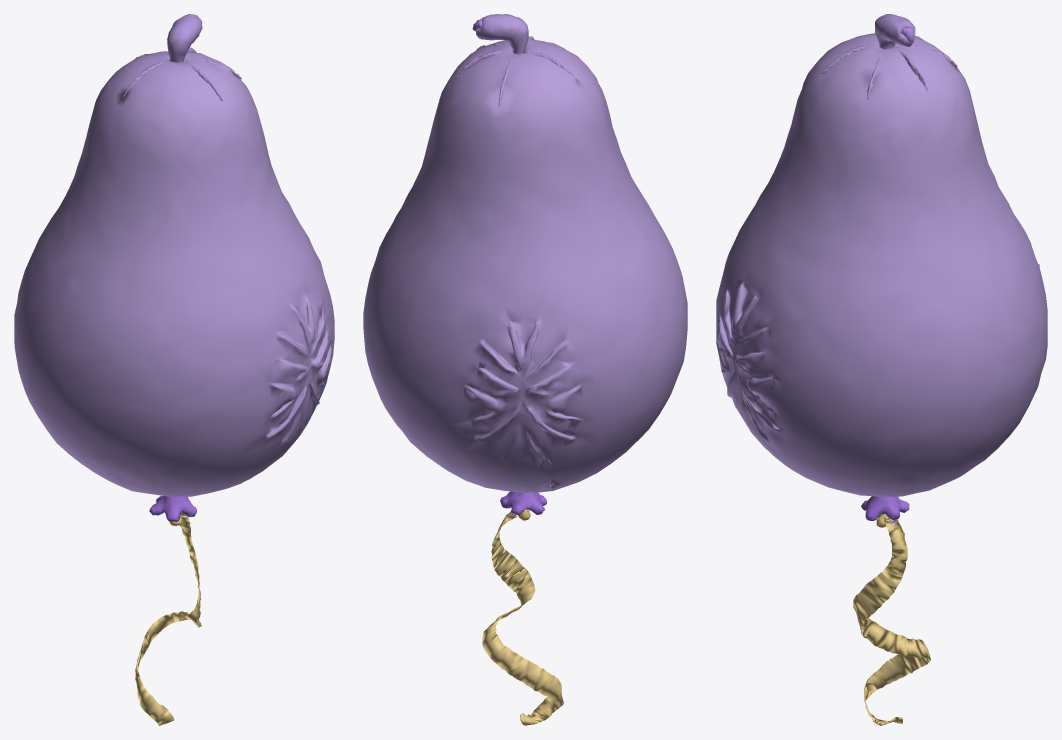
The model's file is r33-balloon.glb.
3 renders of one model, left to right at view 1: azimuth 30°, elevation 25°; view 2: azimuth 150°, elevation 25°; view 3: azimuth 270°, elevation 25°, orthographic. The views are drawn at different scales.
Visible parts, largest first — view 1: tripo_node_549ca468-addf-45c2-ab47-468d8ab2cbaf; view 2: tripo_node_549ca468-addf-45c2-ab47-468d8ab2cbaf; view 3: tripo_node_549ca468-addf-45c2-ab47-468d8ab2cbaf.
Boxes of the visible parts, x1,y1,x2,y2 form: tripo_node_549ca468-addf-45c2-ab47-468d8ab2cbaf: (14, 14, 334, 725); tripo_node_549ca468-addf-45c2-ab47-468d8ab2cbaf: (363, 14, 687, 725); tripo_node_549ca468-addf-45c2-ab47-468d8ab2cbaf: (716, 14, 1047, 725).
Size of the model in its own units: 0.4199 by 0.998 by 0.416.
1 material, 1 textured.
